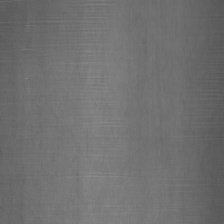waist_folding: (21, 10, 224, 194)
